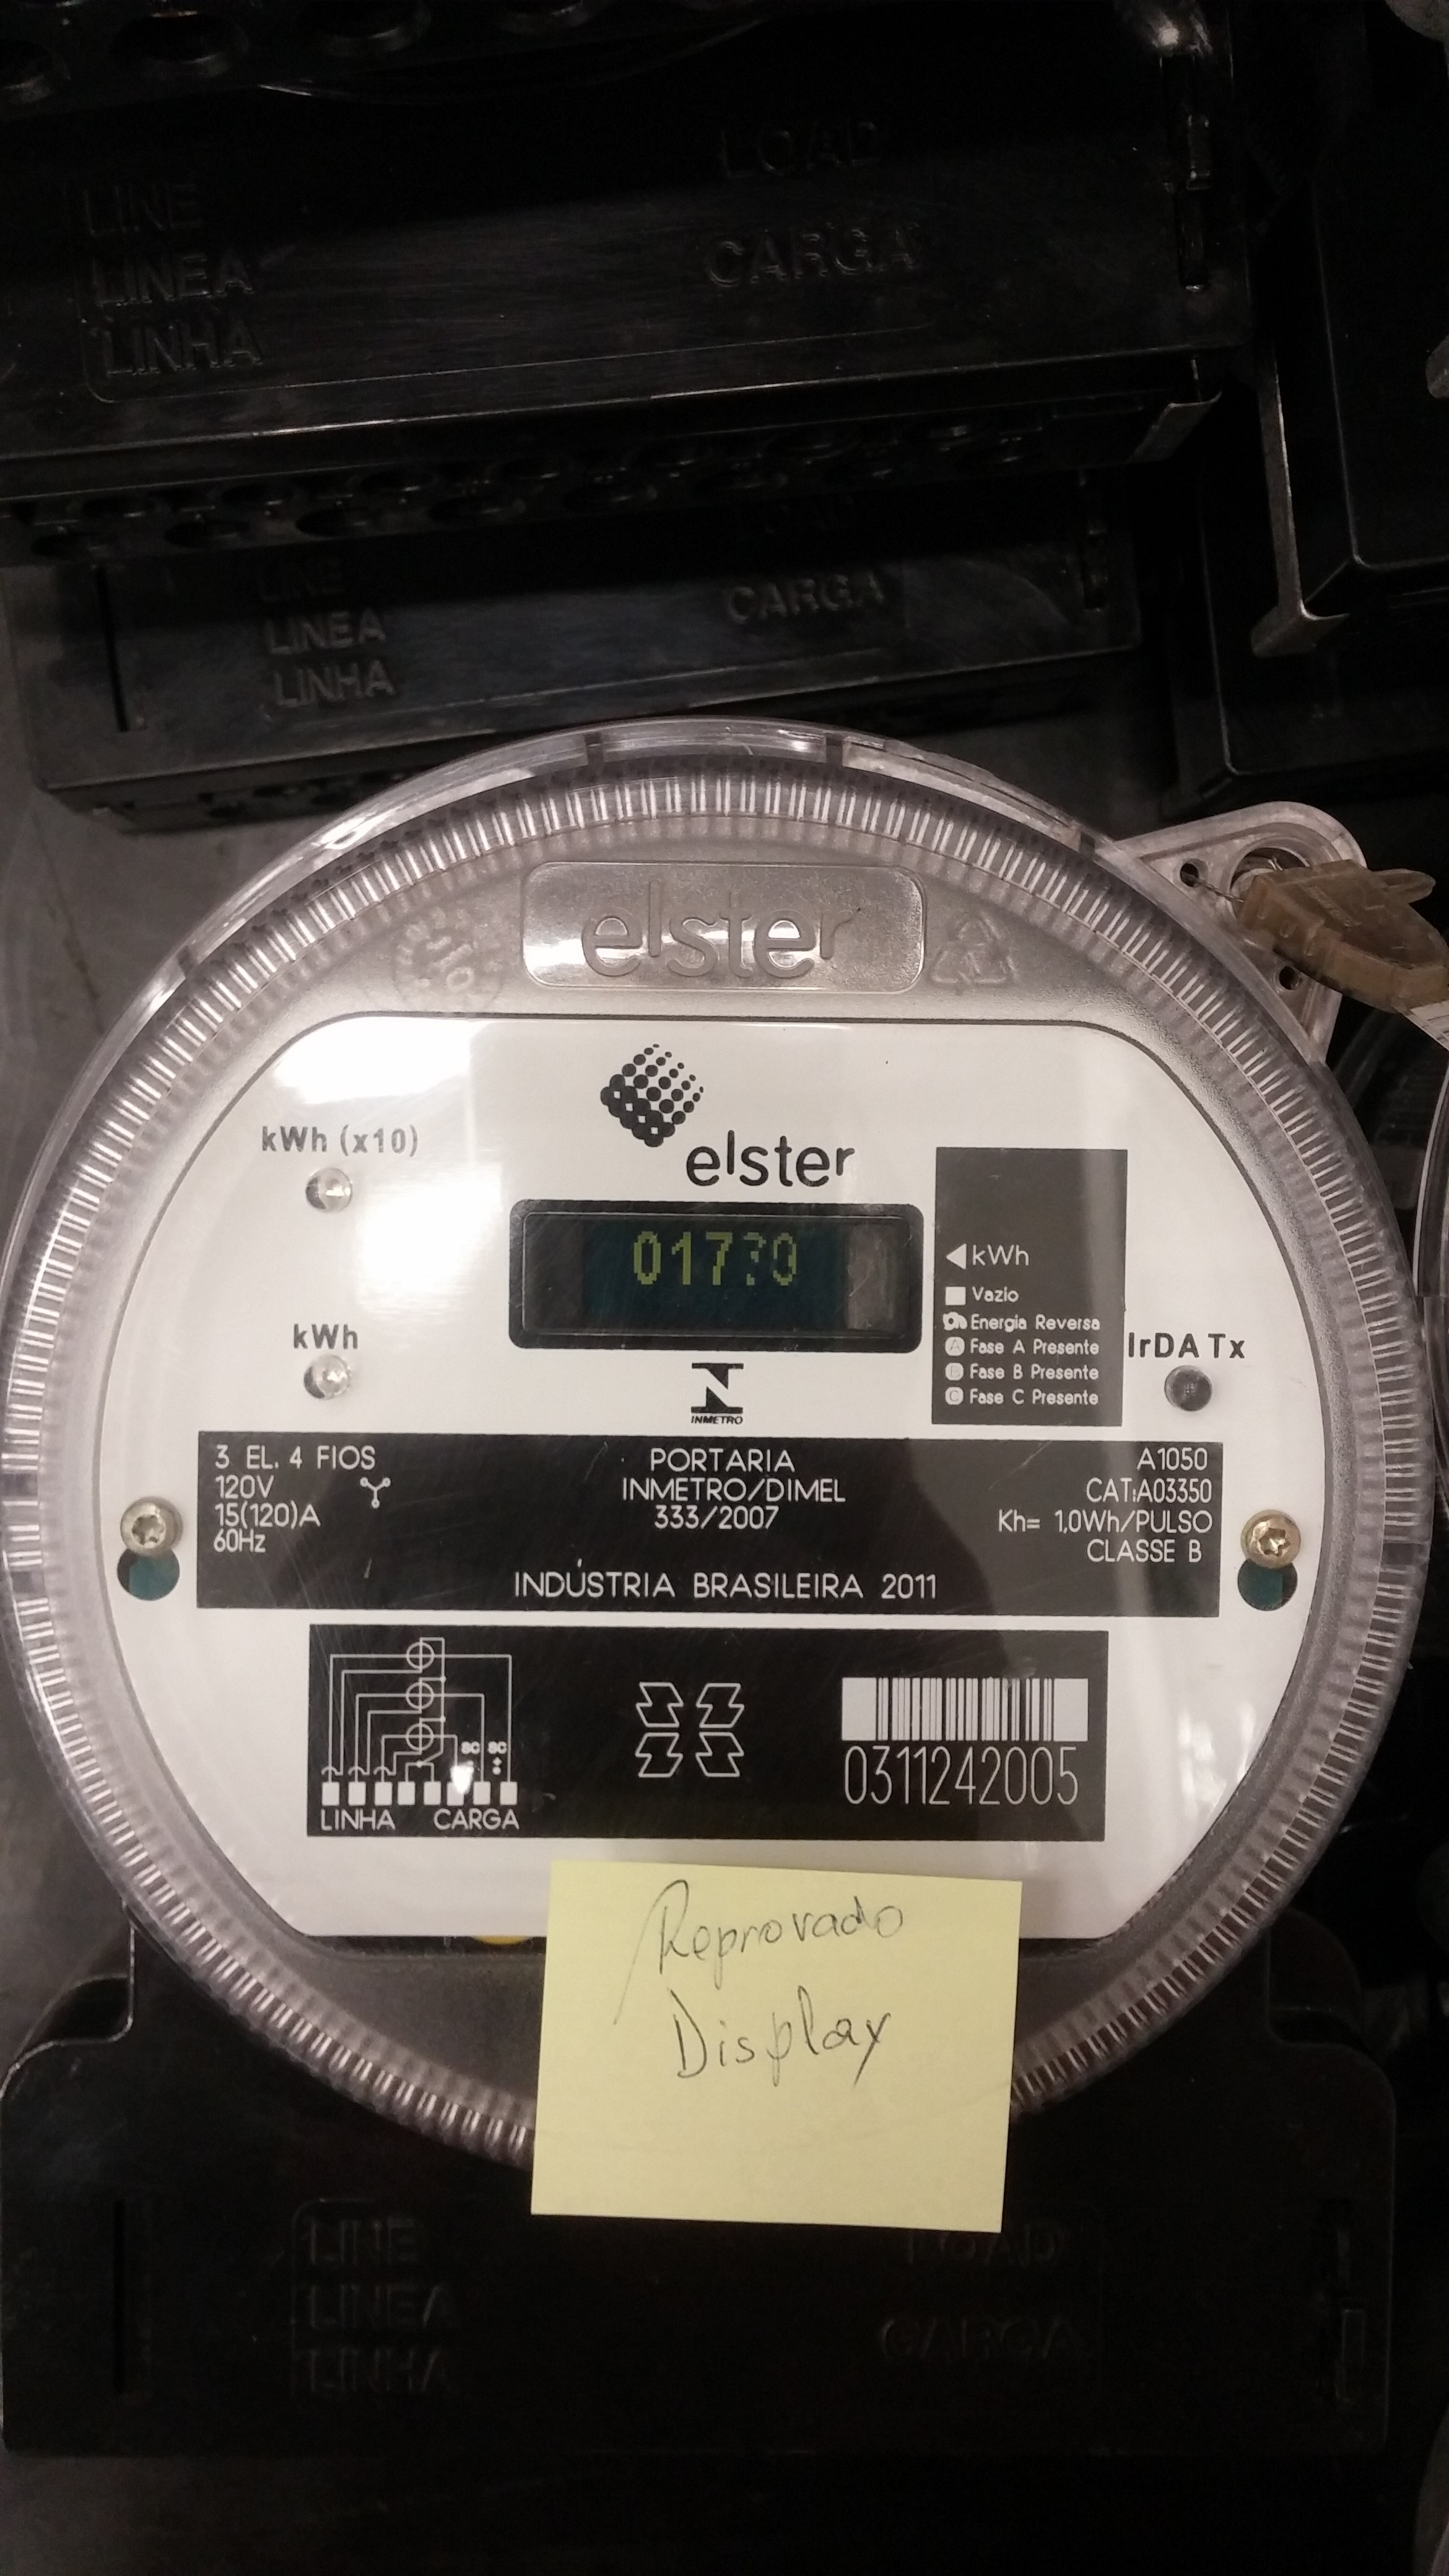counter: (497, 1196, 911, 1346)
